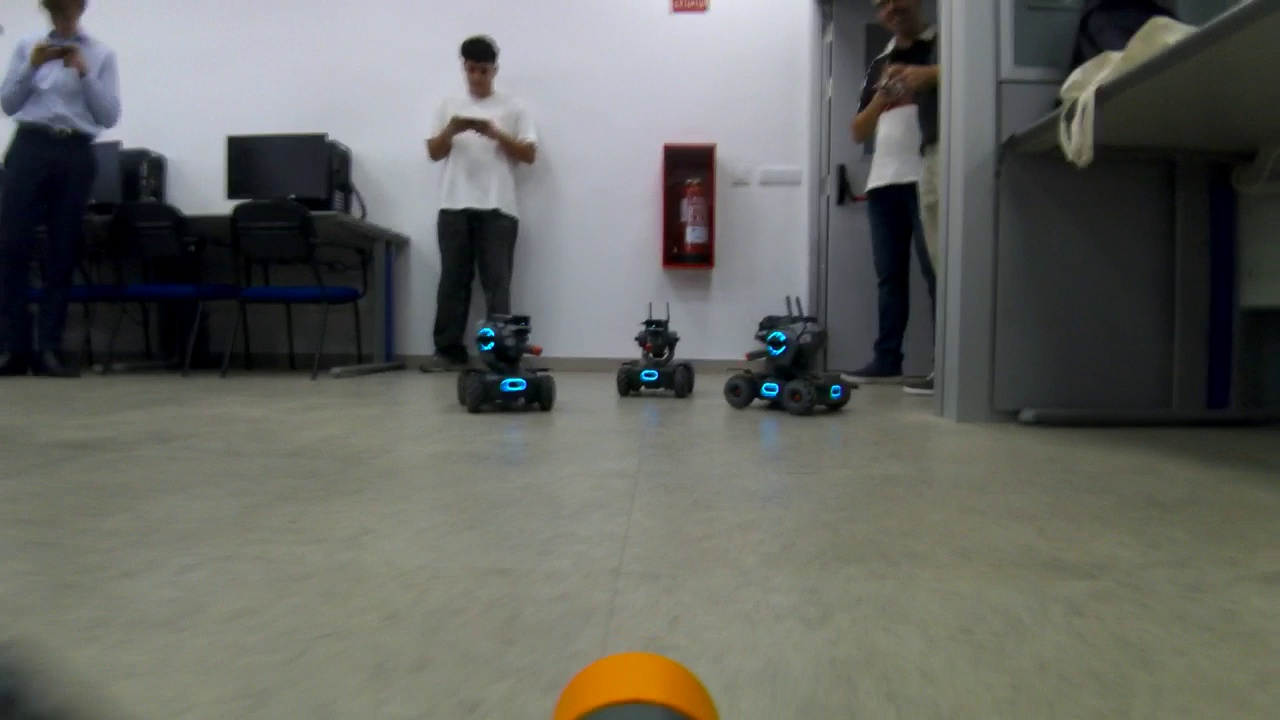robot: (729, 294, 855, 412), (452, 296, 565, 413), (616, 300, 700, 400)
